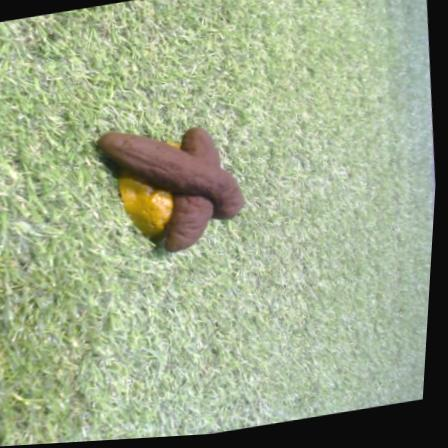dog-poop: (99, 115, 243, 258)
